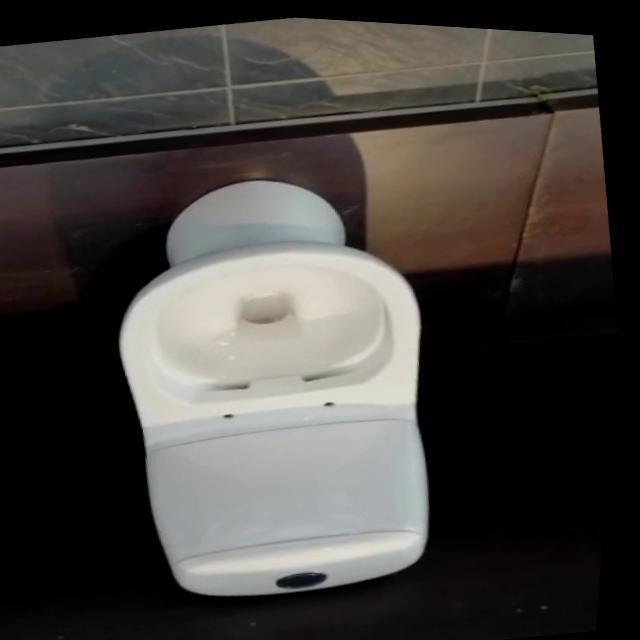toilet: (86, 146, 477, 621)
